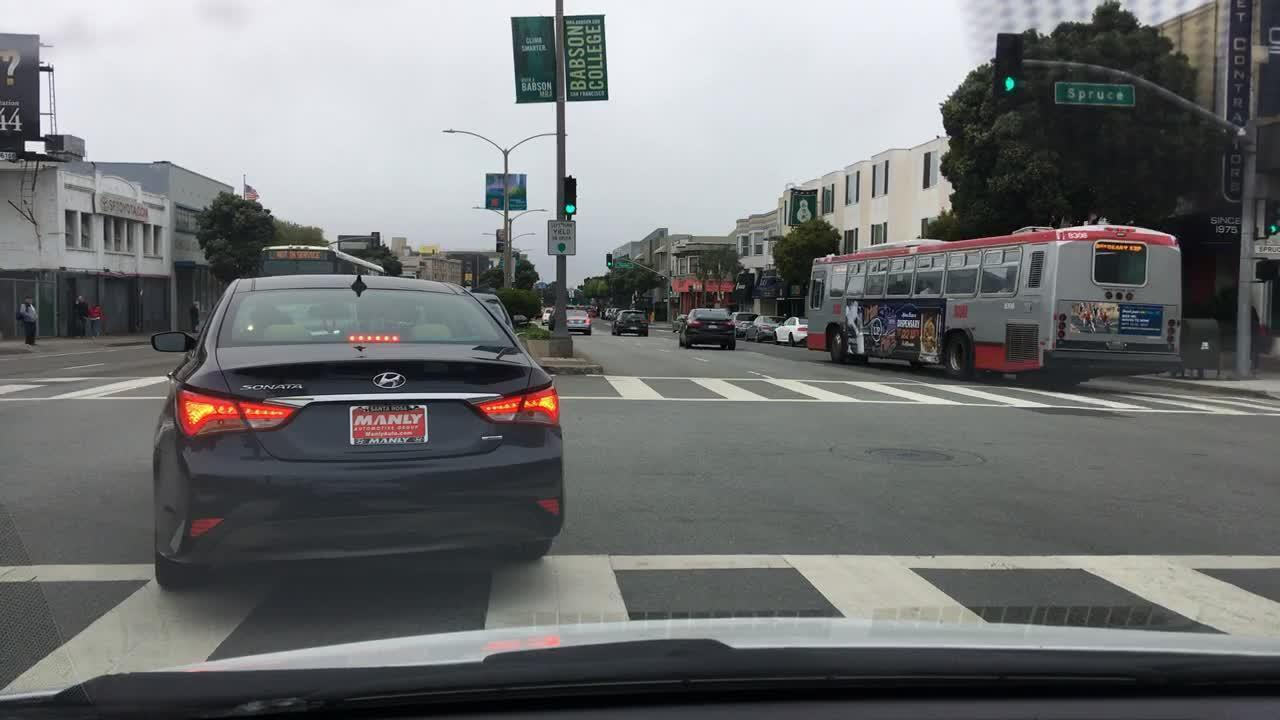Hyundai: (361, 360, 415, 404)
